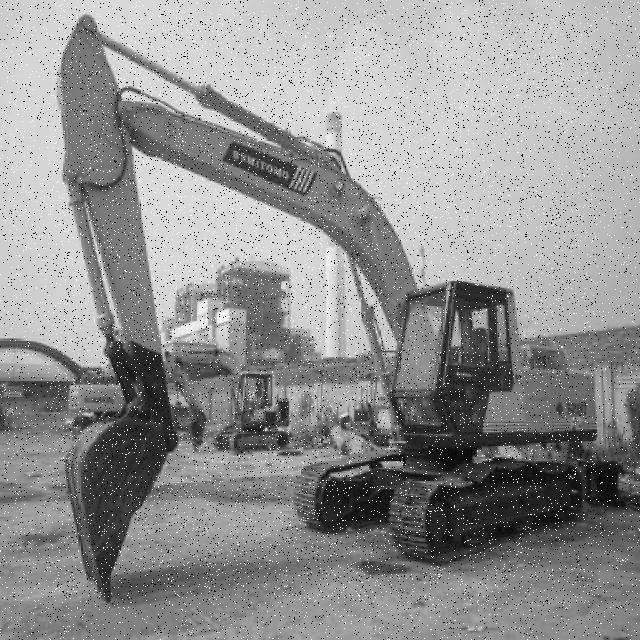Construction Equipment: (55, 14, 597, 606)
